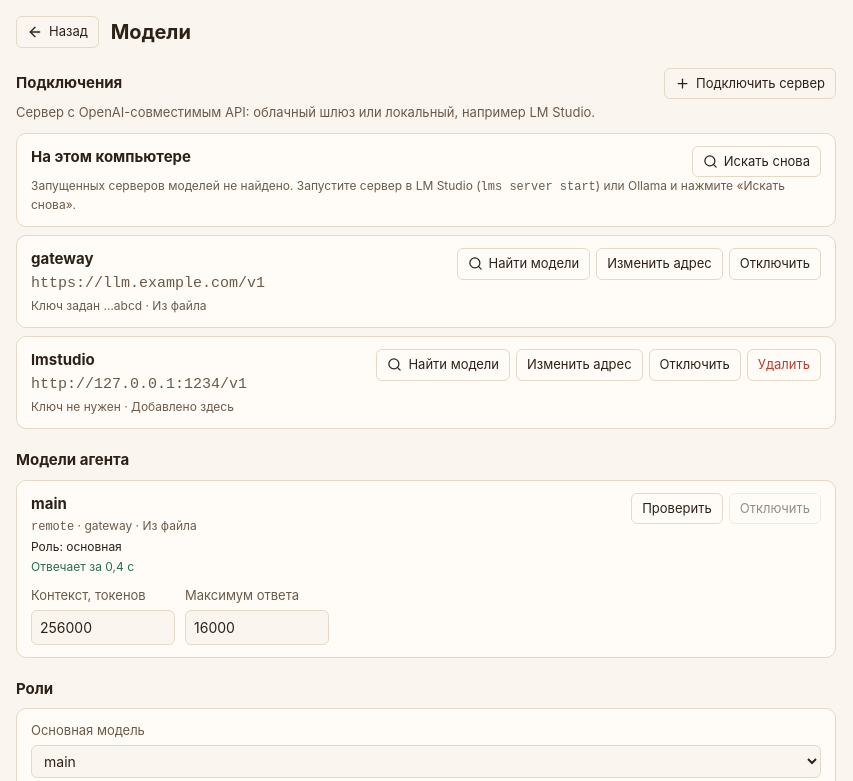
Test: SettingsModelsView › adds a found model with its context length and a free price
Click the button with test id "provider-discover" next to "http://127.0.0.1:1234/v1": (443, 365) [376, 349, 510, 380]
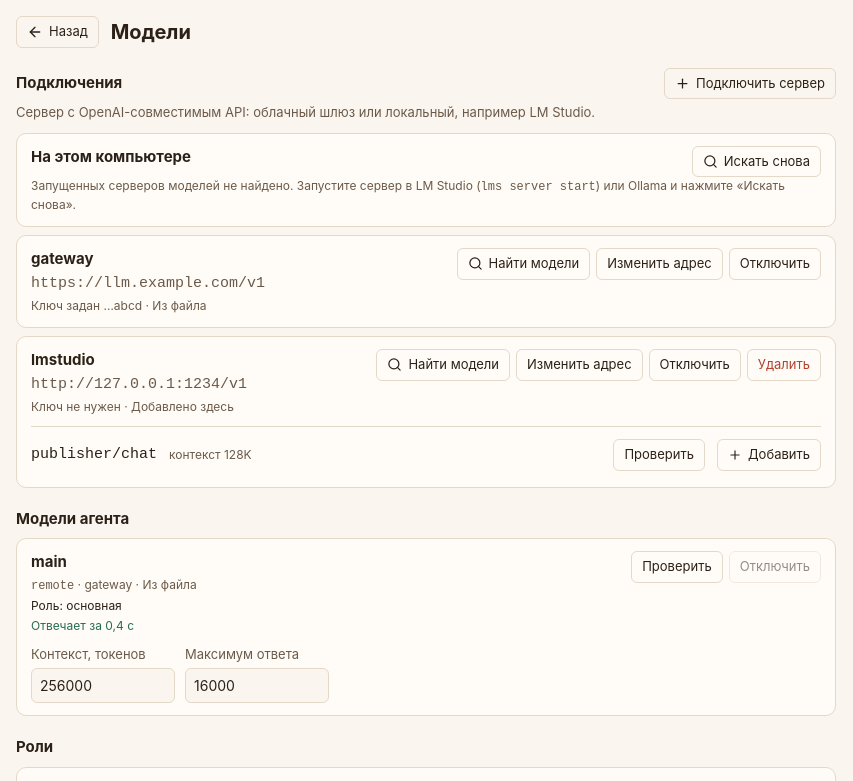
Click the button with test id "found-add": (769, 455) [717, 439, 821, 470]
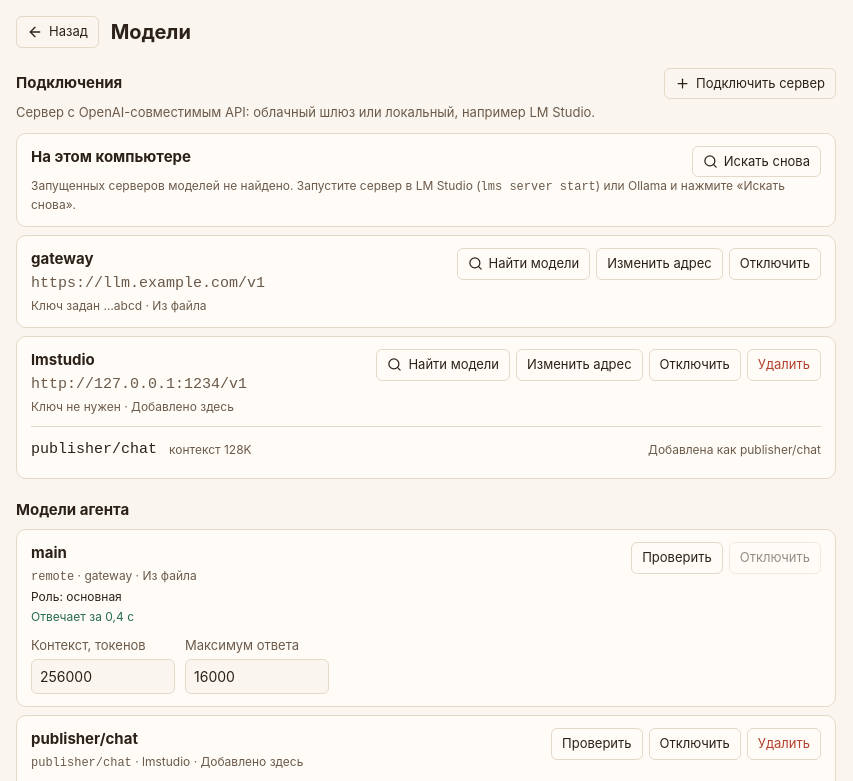
Expected: the list item "publisher/chat контекст 128K Добавлена как publisher/chat" is shown, [31, 441, 821, 458]
